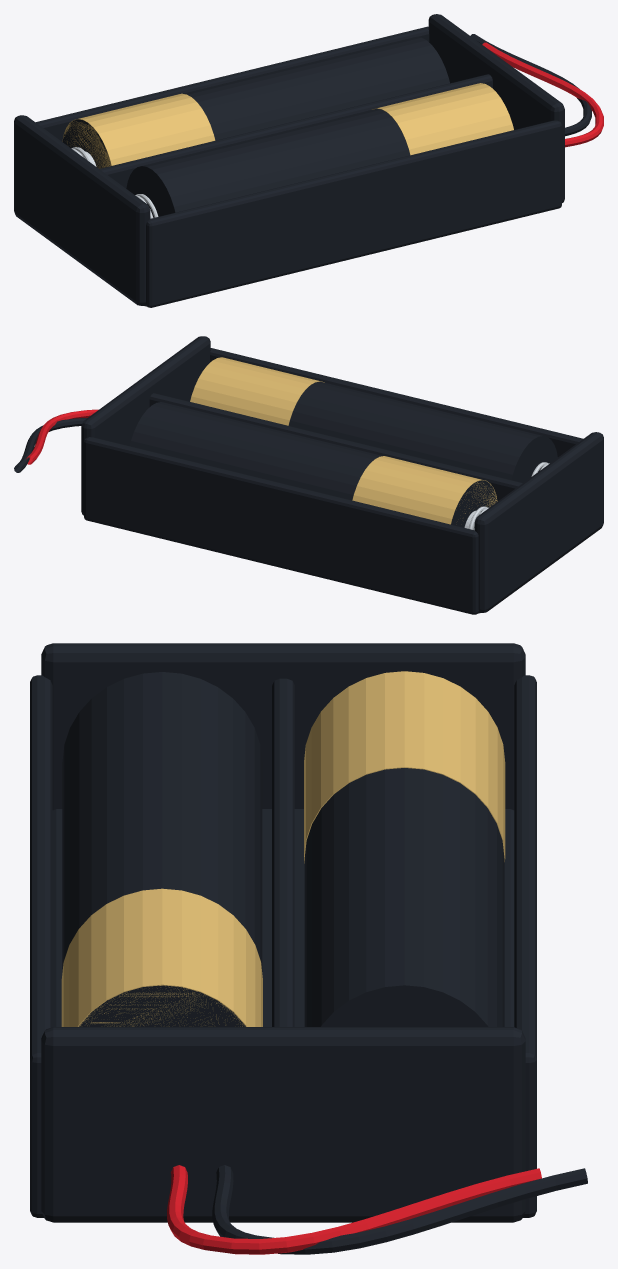
File: battery-holder.glb
The picture shows the model from 3 angles, top to bottom: view 1: azimuth 30°, elevation 25°; view 2: azimuth 150°, elevation 25°; view 3: azimuth 270°, elevation 25°; orthographic projection. The views are drawn at different scales.
Visible parts, largest first — view 1: Static body • black, Static body • gold, Static body • red; view 2: Static body • black, Static body • gold, Static body • red; view 3: Static body • black, Static body • gold, Static body • red.
Part boxes in pixels (left/top/right/bottom): Static body • black: left=14, top=14, right=591, bottom=307; Static body • gold: left=62, top=83, right=513, bottom=168; Static body • red: left=482, top=42, right=603, bottom=147; Static body • black: left=14, top=336, right=603, bottom=614; Static body • gold: left=190, top=357, right=497, bottom=524; Static body • red: left=25, top=409, right=98, bottom=464; Static body • black: left=30, top=643, right=587, bottom=1254; Static body • gold: left=61, top=671, right=505, bottom=1026; Static body • red: left=167, top=1165, right=541, bottom=1254.
Size of the model in its own units: 75.28 by 15.15 by 36.87.
